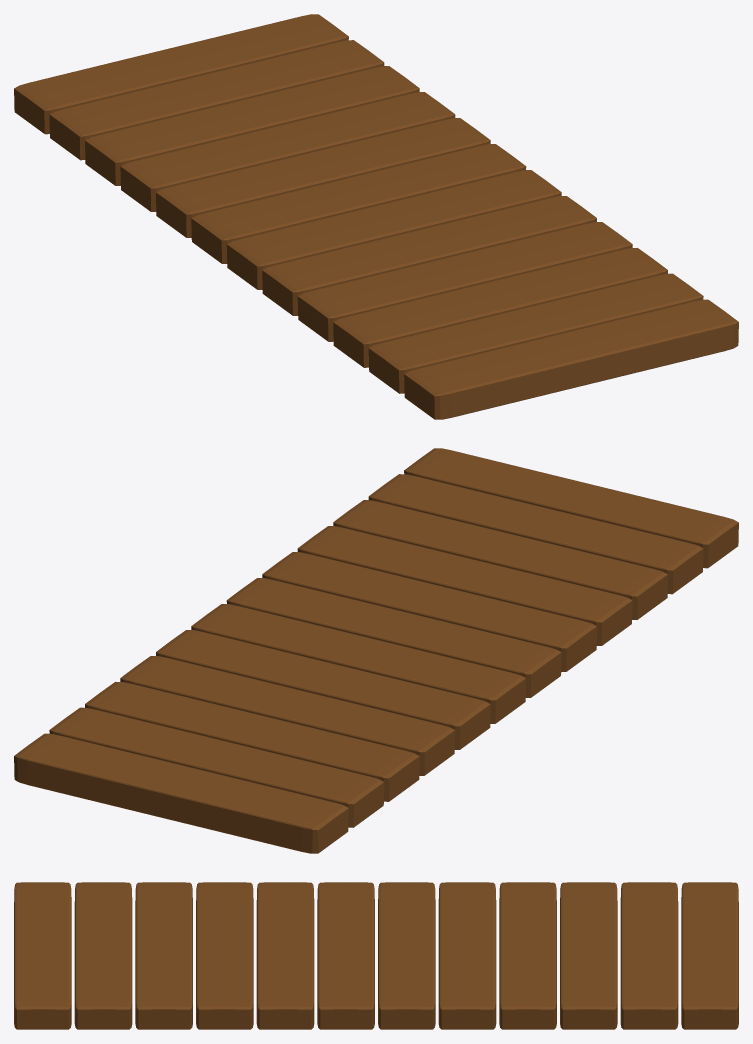
File: boardwalk_straight.glb
3 views of the same model, one above another, from view 1: azimuth 30°, elevation 25°; view 2: azimuth 150°, elevation 25°; view 3: azimuth 270°, elevation 25° (orthographic). The views are drawn at different scales.
Parts seen in each view (by area): view 1: Jetty.006, Jetty.007, Jetty.016, Jetty.014, Jetty.009, Jetty.011, Jetty.012, Jetty.017, Jetty.015, Jetty.010, Jetty.013, Jetty.008; view 2: Jetty.017, Jetty.016, Jetty.007, Jetty.009, Jetty.014, Jetty.008, Jetty.012, Jetty.011, Jetty.006, Jetty.010, Jetty.013, Jetty.015; view 3: Jetty.007, Jetty.016, Jetty.010, Jetty.013, Jetty.006, Jetty.017, Jetty.008, Jetty.009, Jetty.011, Jetty.012, Jetty.014, Jetty.015.
Boxes of the visible parts, box(x1,y1,x2,y2) form: Jetty.006: box(404, 299, 738, 419); Jetty.007: box(368, 273, 703, 393); Jetty.016: box(49, 40, 384, 160); Jetty.014: box(120, 92, 455, 211); Jetty.009: box(297, 222, 632, 341); Jetty.011: box(226, 170, 561, 289); Jetty.012: box(191, 144, 526, 263); Jetty.017: box(14, 14, 348, 134); Jetty.015: box(85, 66, 419, 185); Jetty.010: box(262, 196, 596, 315); Jetty.013: box(156, 118, 490, 237); Jetty.008: box(333, 248, 667, 367); Jetty.017: box(14, 733, 348, 853); Jetty.016: box(49, 707, 384, 827); Jetty.007: box(368, 474, 703, 594); Jetty.009: box(297, 526, 632, 645); Jetty.014: box(120, 656, 455, 775); Jetty.008: box(333, 500, 667, 619); Jetty.012: box(191, 604, 526, 723); Jetty.011: box(226, 578, 561, 697); Jetty.006: box(404, 448, 738, 568); Jetty.010: box(262, 552, 596, 671); Jetty.013: box(156, 630, 490, 749); Jetty.015: box(85, 681, 419, 801); Jetty.007: box(74, 882, 132, 1029); Jetty.016: box(620, 882, 678, 1029); Jetty.010: box(256, 882, 314, 1029); Jetty.013: box(438, 882, 496, 1029); Jetty.006: box(14, 882, 71, 1029); Jetty.017: box(681, 882, 738, 1029); Jetty.008: box(135, 882, 192, 1029); Jetty.009: box(196, 882, 253, 1029); Jetty.011: box(317, 882, 374, 1029); Jetty.012: box(378, 882, 435, 1029); Jetty.014: box(499, 882, 556, 1029); Jetty.015: box(560, 882, 617, 1029).
Bounding box in the file's own units: 2.6 × 0.2189 × 6.28.
